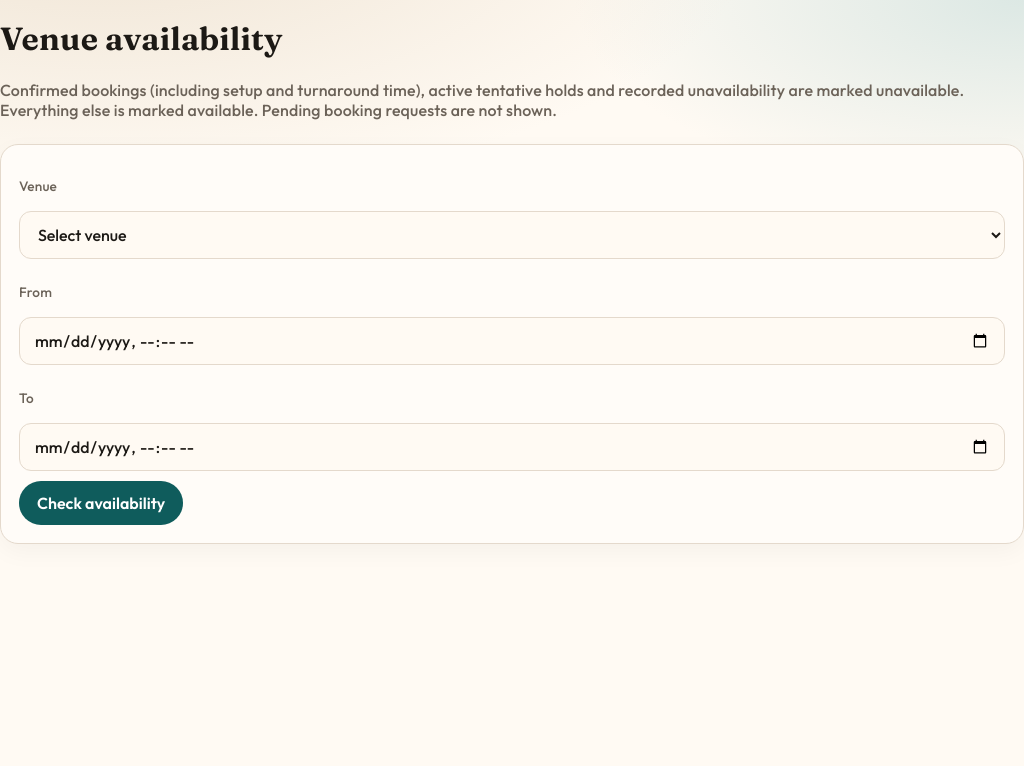
SCRUM-67 Existing bookings list › US67-F04 (AC1): says so when the venue has no bookings in the period
Select "Helix Hall" in the dropdown labelled "Venue" at (512, 235), box [19,211,1005,259]
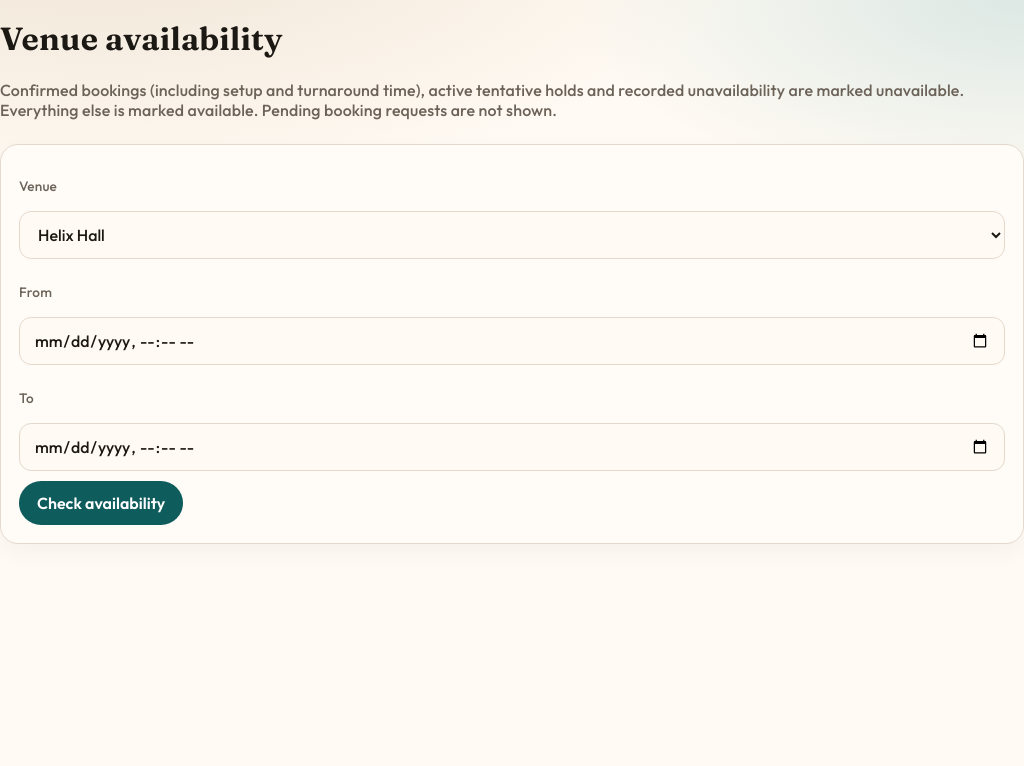
Type "2026-10-20T08:00" into the field labelled "From".
click(512, 341); type("2026-10-20T08:00")  # box [19,317,1005,365]
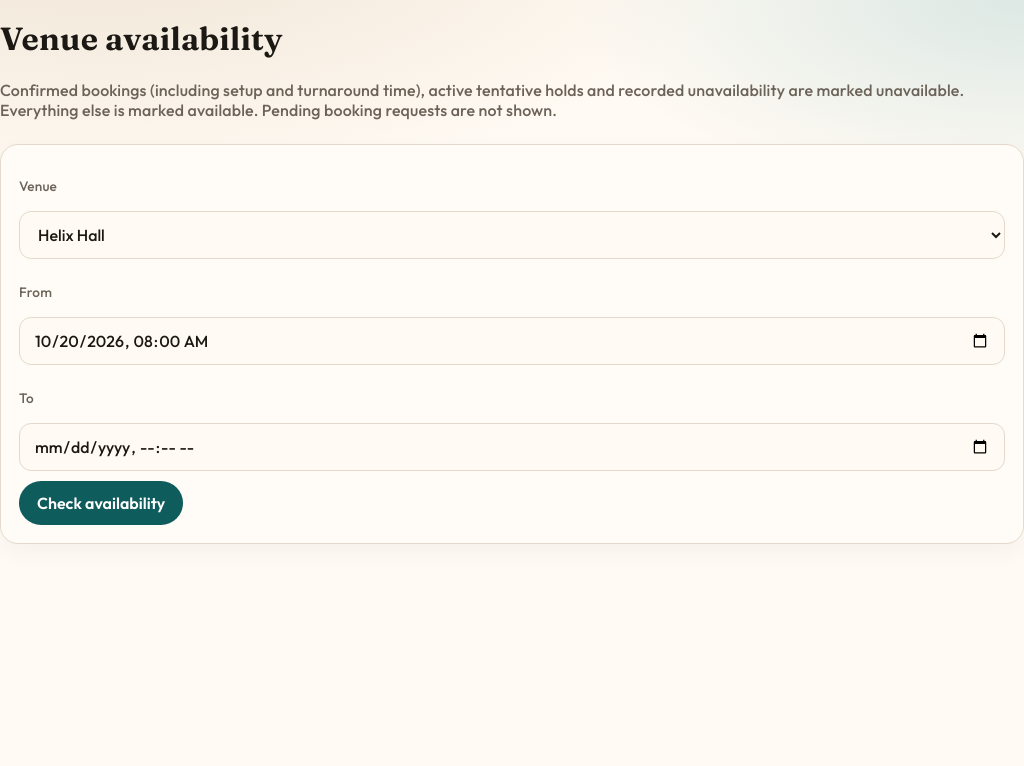
Type "2026-10-20T14:00" into the field labelled "To".
click(512, 447); type("2026-10-20T14:00")  # box [19,423,1005,471]
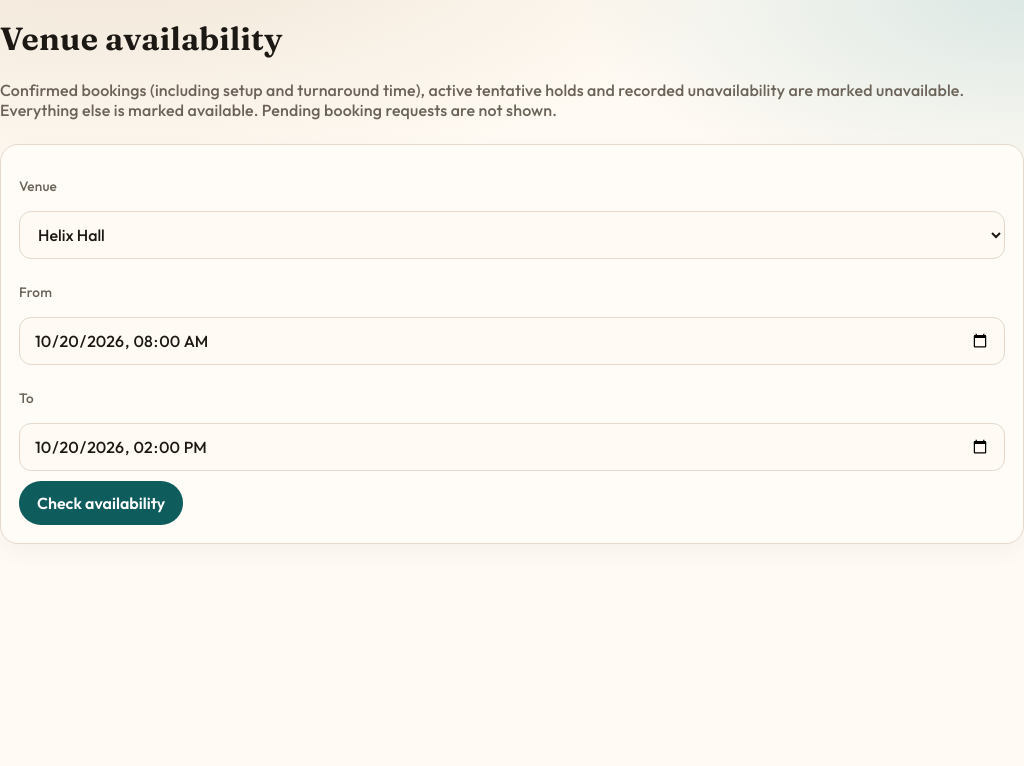
Click the button "Check availability".
click(101, 503)  # box [19,481,183,525]
(page scrolled)
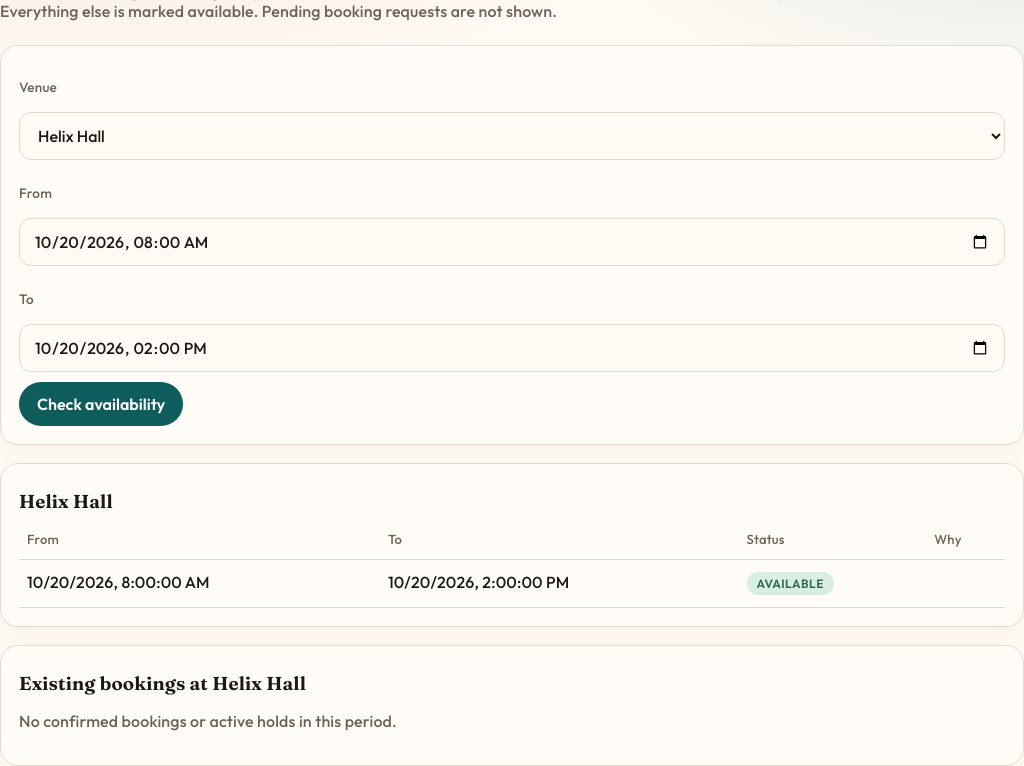
Expected: the text "No confirmed bookings or active holds in this period." is shown, [19,711,397,731]
